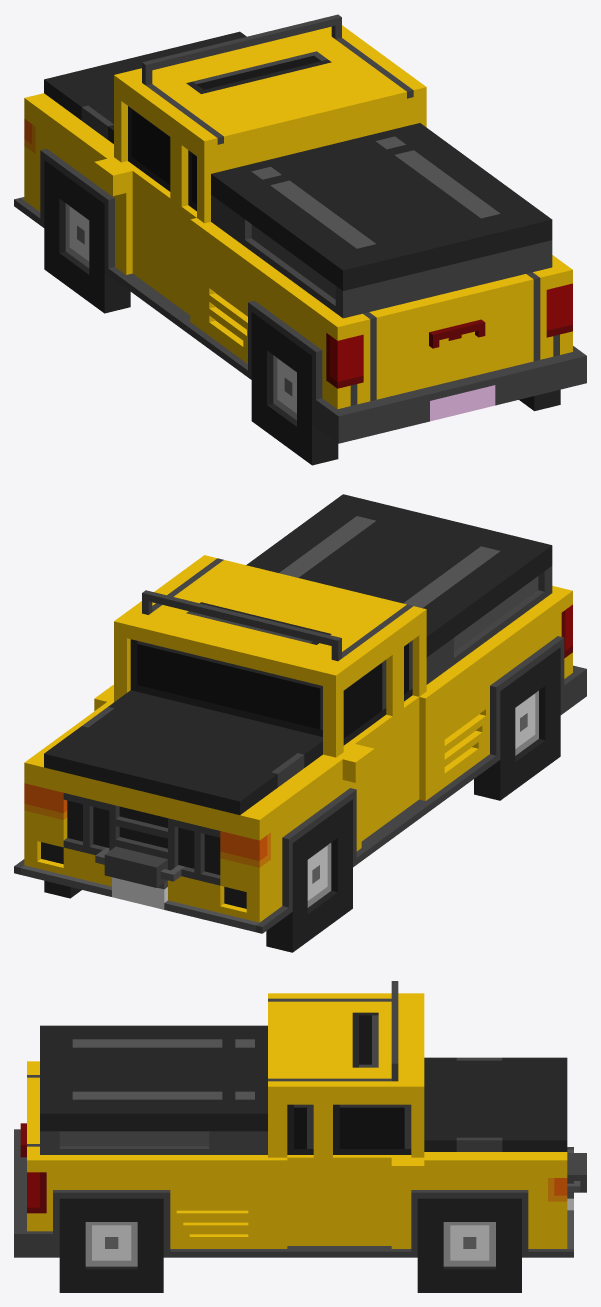
3 renders of one model, top to bottom at view 1: azimuth 30°, elevation 25°; view 2: azimuth 150°, elevation 25°; view 3: azimuth 270°, elevation 25°, orthographic. The views are drawn at different scales.
Visible parts, largest first — view 1: alll cars3-98; view 2: alll cars3-98; view 3: alll cars3-98.
Boxes of the visible parts, <box> form: alll cars3-98: <box>14,14,586,465</box>; alll cars3-98: <box>14,494,586,952</box>; alll cars3-98: <box>14,981,586,1292</box>.
Bounding box in the file's own units: 2.95 × 2.73 × 6.5.
1 material, 1 textured.
